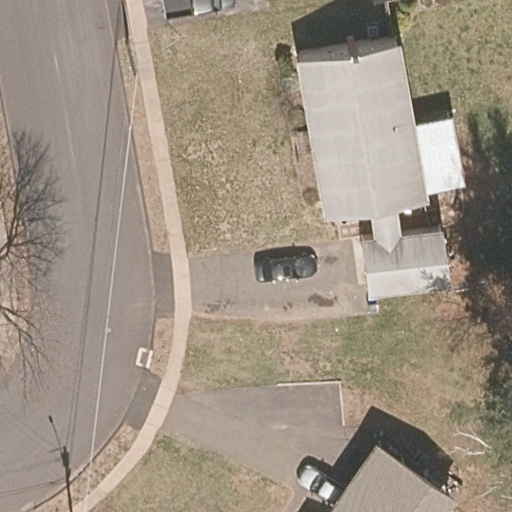DT: (125, 40, 143, 81), (65, 492, 85, 512)
